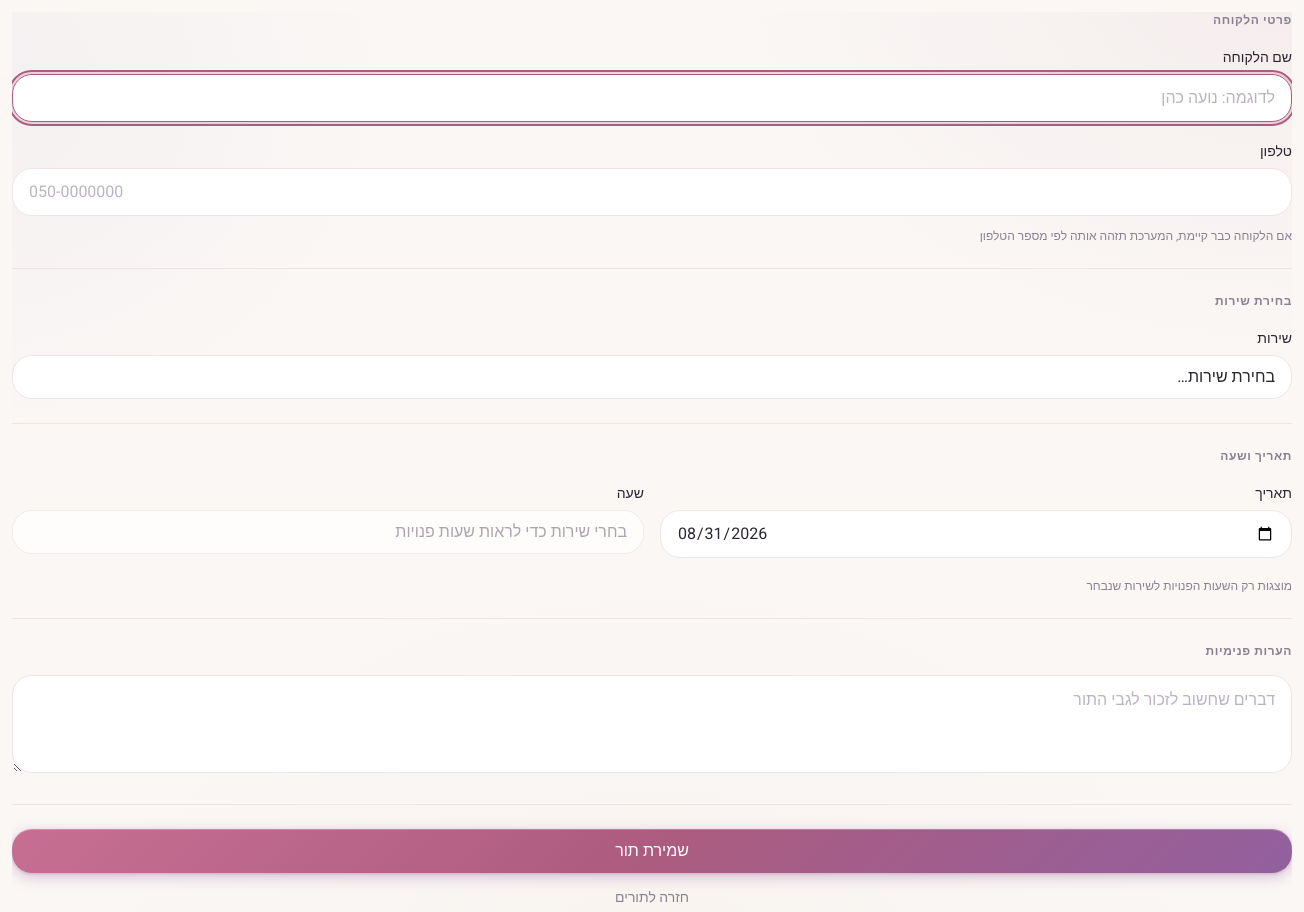
BookingForm — service selection + slots › shows the closed-day message when the business is closed that day
Select "מניקור ג'ל" in the dropdown labelled "שירות". click: (652, 377)
box: [12,355,1292,399]
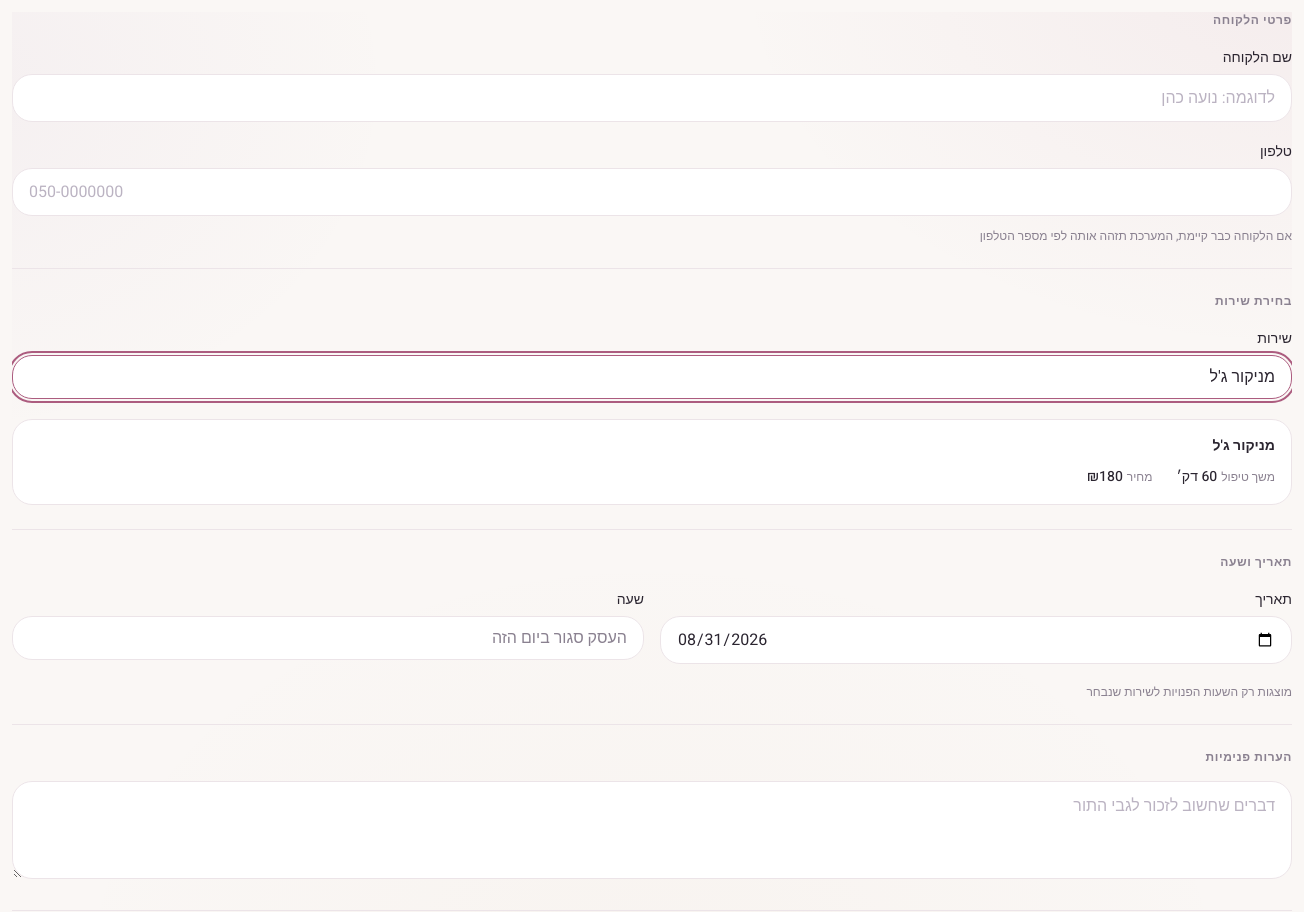
Expected: the text "העסק סגור ביום הזה" is shown, [12,616,644,660]
